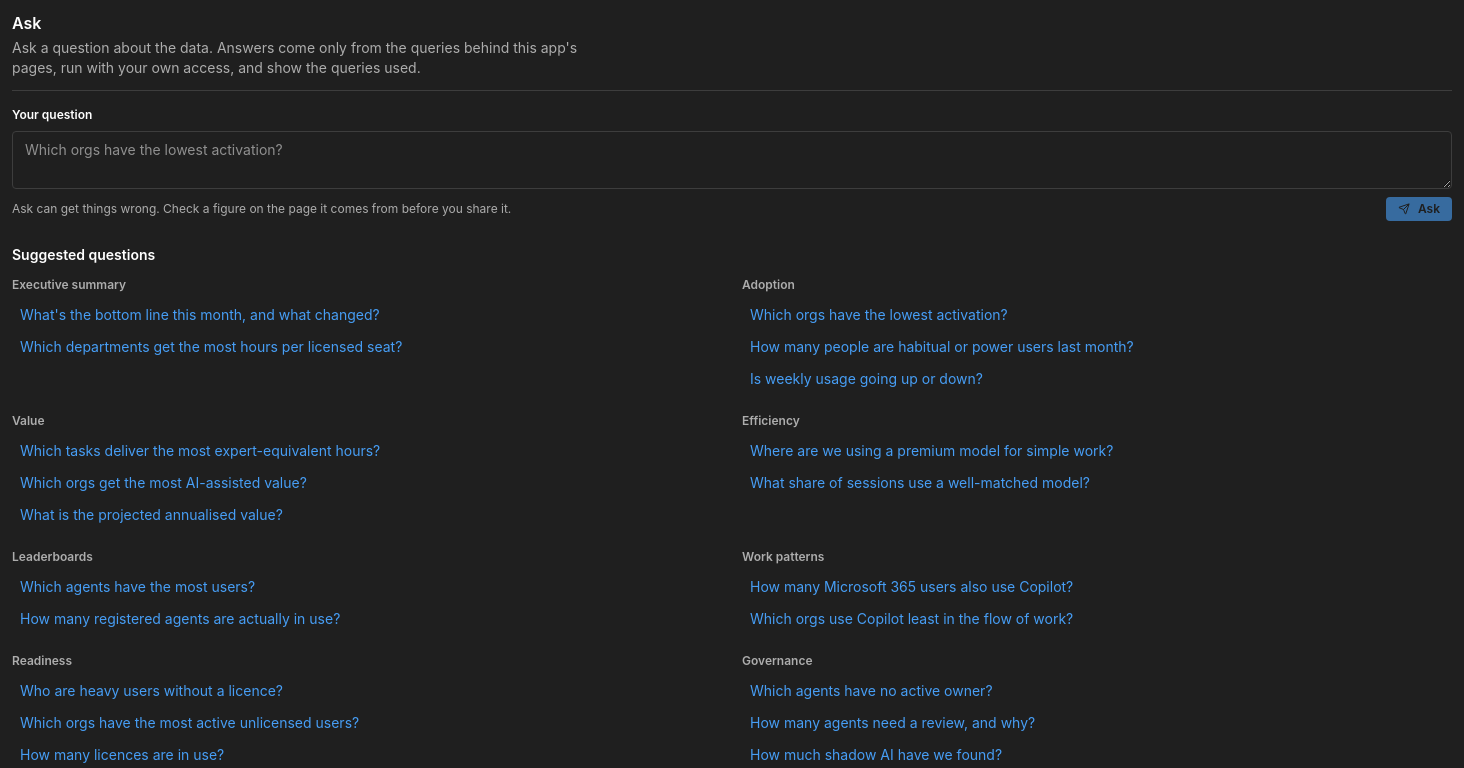
Test: AskScreen › says when to try again after hitting the limit
Type "How many users?" into the text box labelled "Your question" at (732, 160), box [12,131,1452,189]
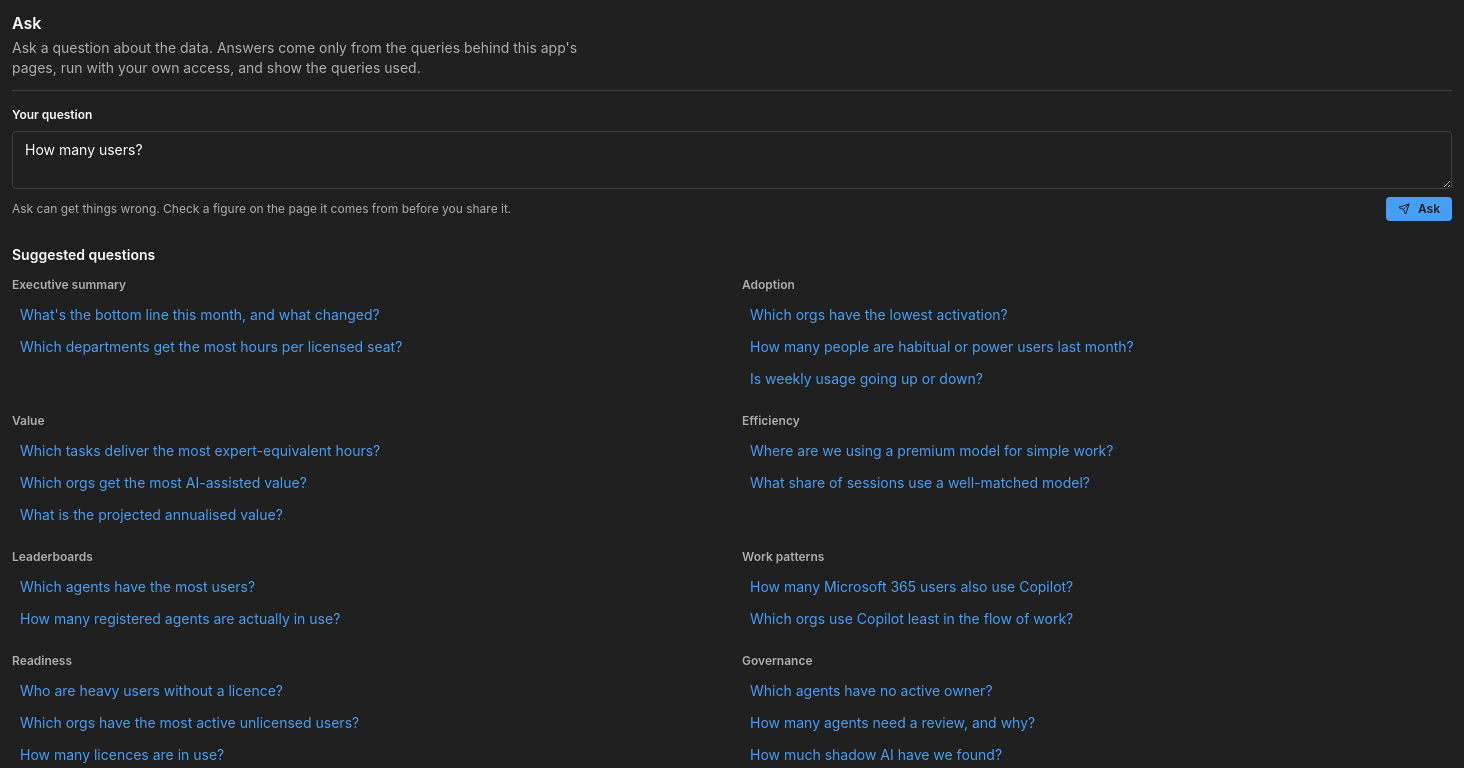
Submit the form labelled "Your question", box [12,107,1452,221]
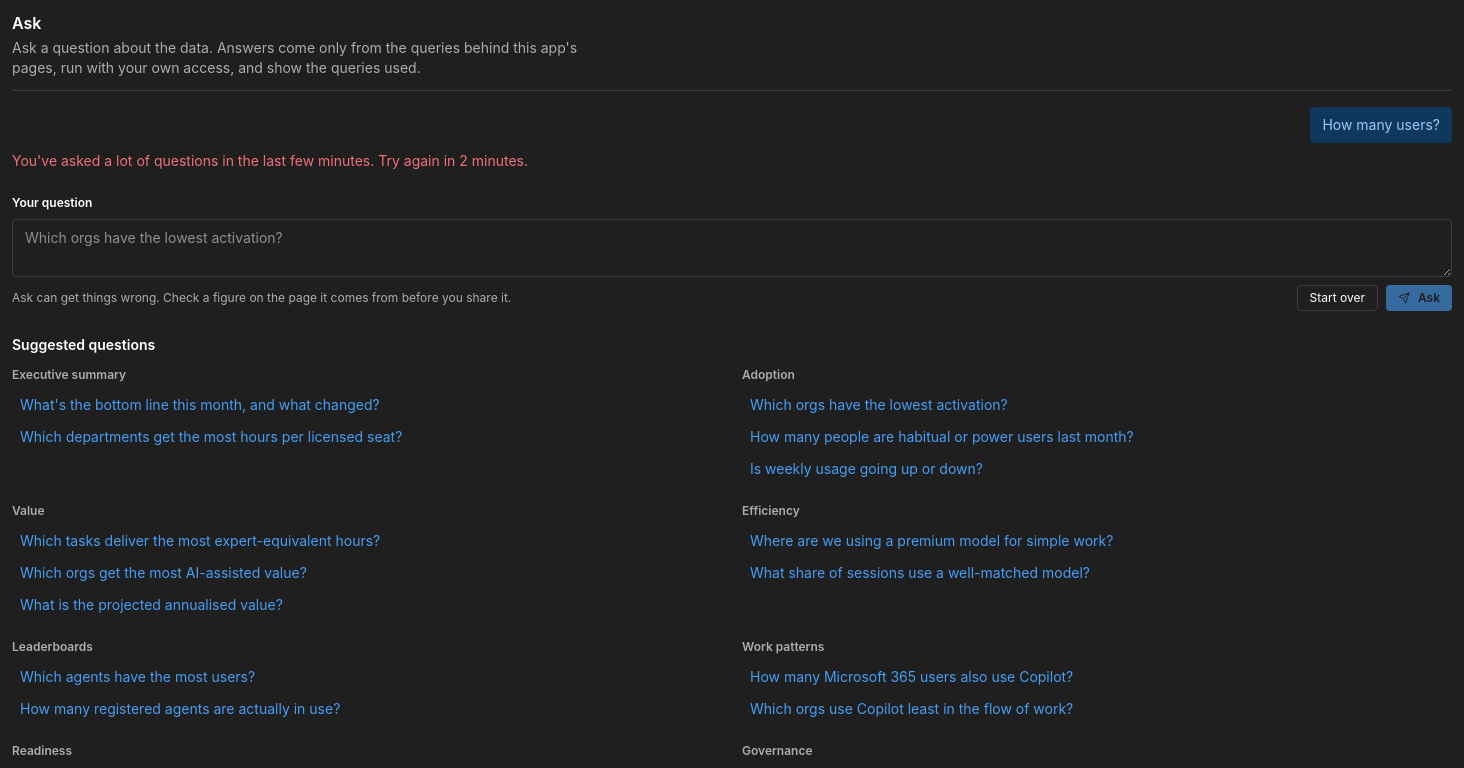
Expected: the message reads "You've asked a lot of questions in the last few minutes. Try again in 2 minutes.", [12,152,528,169]
